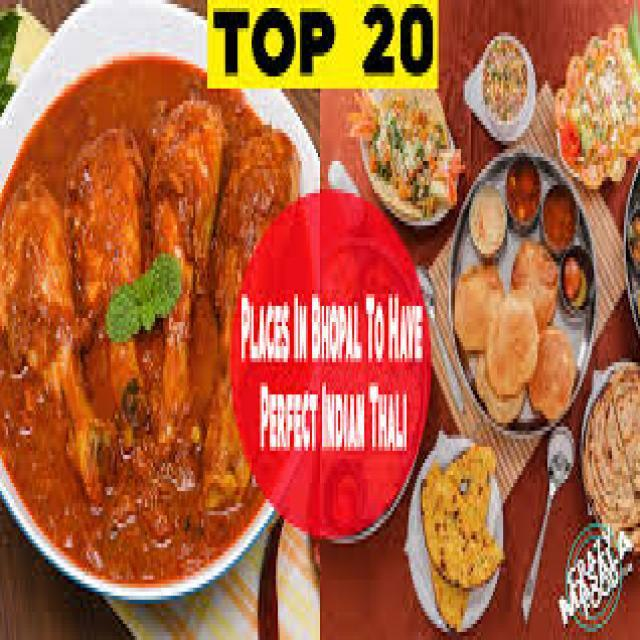rice: (410, 425, 512, 615)
roti: (582, 370, 639, 548)
sweet: (447, 253, 513, 358), (528, 327, 581, 422), (551, 238, 597, 319), (535, 180, 582, 257)
